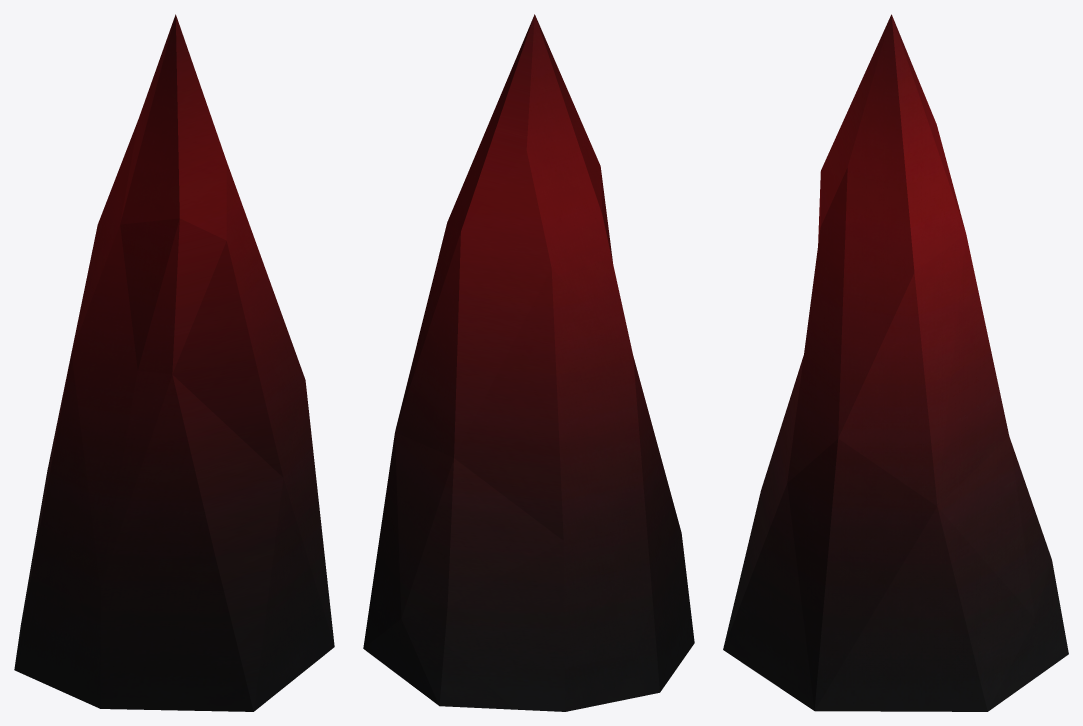
File: Spike3.fbx
The picture shows the model from 3 angles, left to right: view 1: azimuth 30°, elevation 25°; view 2: azimuth 150°, elevation 25°; view 3: azimuth 270°, elevation 25°; orthographic projection.
Visible parts, largest first — view 1: Spike3; view 2: Spike3; view 3: Spike3.
Boxes of the visible parts, box(x1,y1,x2,y2) form: Spike3: box(14, 14, 334, 711); Spike3: box(363, 14, 694, 711); Spike3: box(723, 14, 1068, 711).
Bounding box in the file's own units: 3.16 × 7.16 × 3.52.
1 material, 1 textured.
